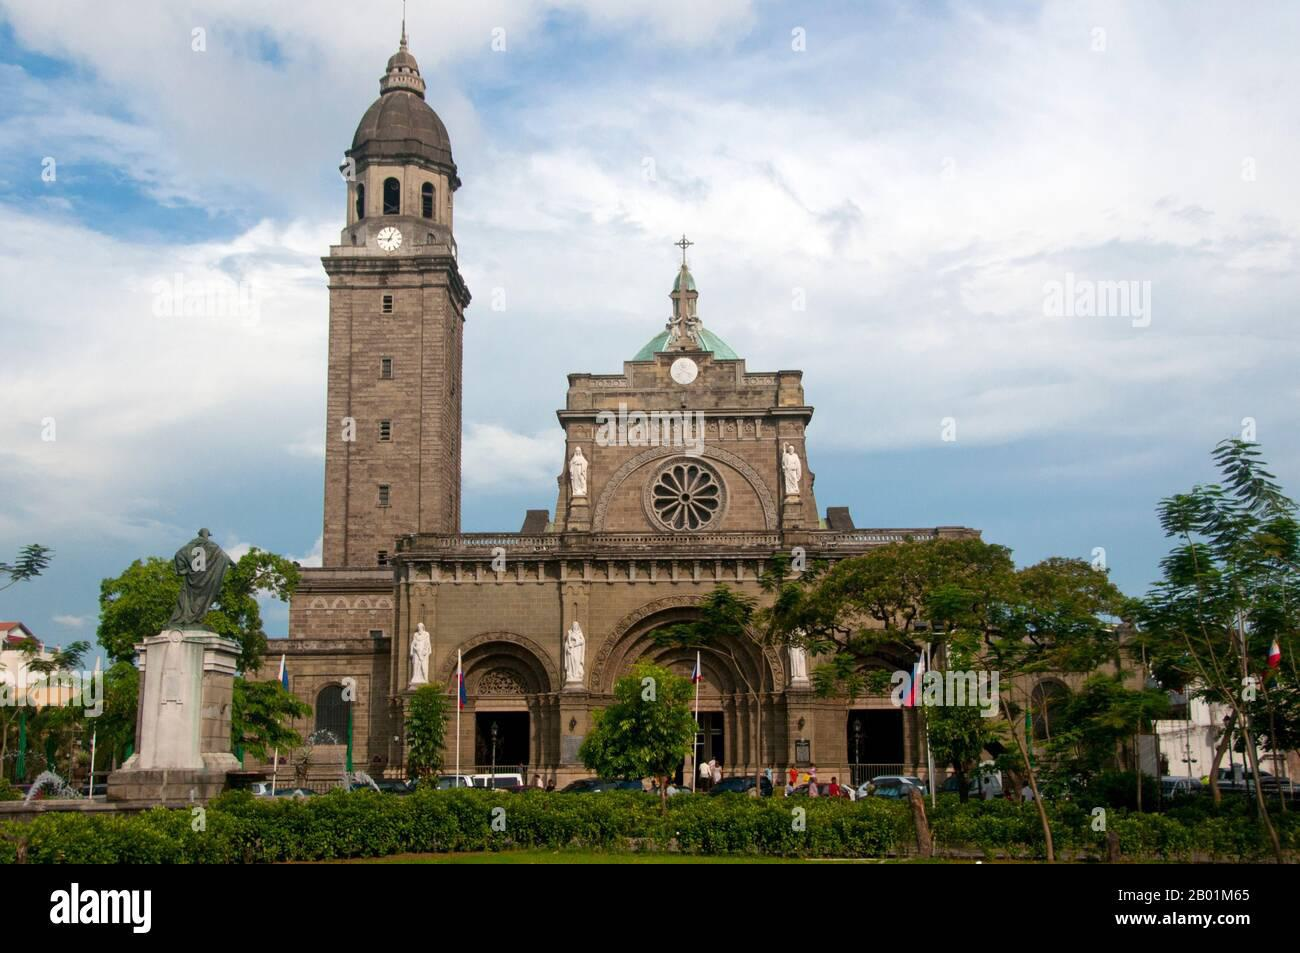manila_cathedral_church_intramuros_manila: (277, 1, 996, 795)
